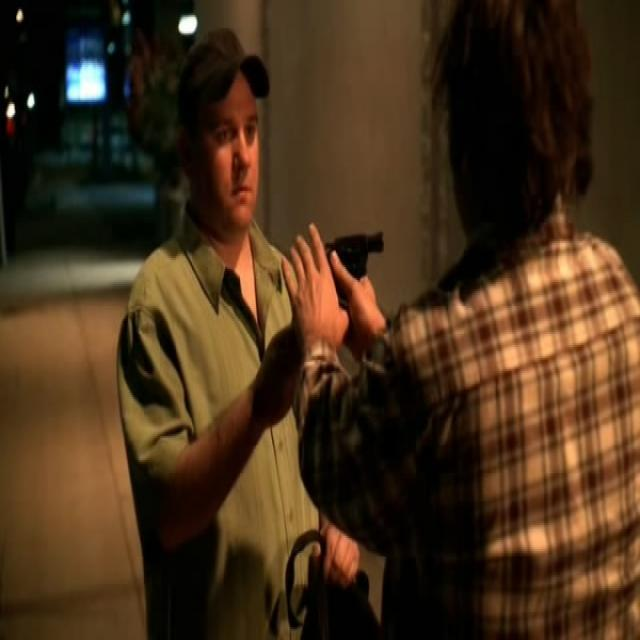weapons: (306, 210, 397, 330)
